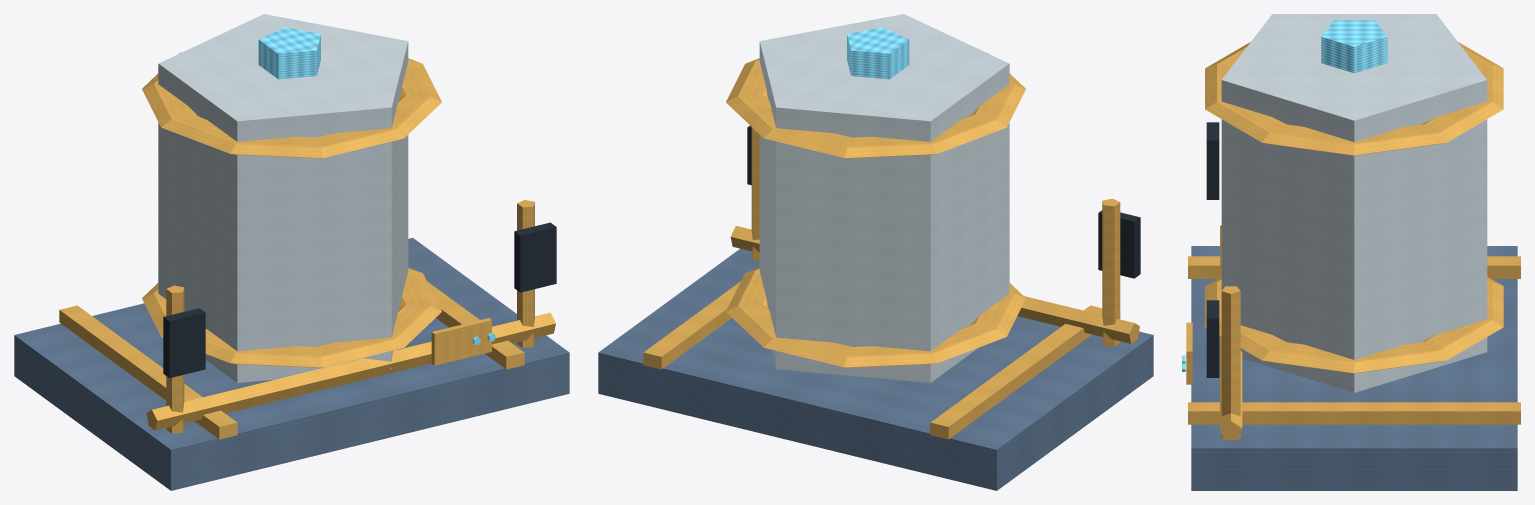
File: atlas100-s057-a02.lod1.glb
3 renders of one model, left to right at view 1: azimuth 30°, elevation 25°; view 2: azimuth 150°, elevation 25°; view 3: azimuth 270°, elevation 25°, orthographic. The views are drawn at different scales.
Parts seen in each view (by area): view 1: atlas100-s057-a02:part-003, atlas100-s057-a02:part-000, atlas100-s057-a02:part-005, atlas100-s057-a02:part-012, atlas100-s057-a02:part-004, atlas100-s057-a02:part-001, atlas100-s057-a02:part-006, atlas100-s057-a02:part-009, atlas100-s057-a02:part-011, atlas100-s057-a02:part-013, atlas100-s057-a02:part-002, atlas100-s057-a02:part-008 (+1 smaller); view 2: atlas100-s057-a02:part-003, atlas100-s057-a02:part-000, atlas100-s057-a02:part-005, atlas100-s057-a02:part-004, atlas100-s057-a02:part-001, atlas100-s057-a02:part-012, atlas100-s057-a02:part-006, atlas100-s057-a02:part-002, atlas100-s057-a02:part-008, atlas100-s057-a02:part-009, atlas100-s057-a02:part-010; view 3: atlas100-s057-a02:part-003, atlas100-s057-a02:part-000, atlas100-s057-a02:part-005, atlas100-s057-a02:part-002, atlas100-s057-a02:part-004, atlas100-s057-a02:part-006, atlas100-s057-a02:part-010, atlas100-s057-a02:part-001, atlas100-s057-a02:part-009, atlas100-s057-a02:part-011, atlas100-s057-a02:part-012, atlas100-s057-a02:part-013.
Part boxes in pixels (left/top/right/bottom): atlas100-s057-a02:part-003: left=158, top=14, right=408, bottom=382; atlas100-s057-a02:part-000: left=14, top=238, right=569, bottom=490; atlas100-s057-a02:part-005: left=142, top=52, right=441, bottom=158; atlas100-s057-a02:part-012: left=146, top=312, right=555, bottom=430; atlas100-s057-a02:part-004: left=142, top=267, right=441, bottom=367; atlas100-s057-a02:part-001: left=59, top=305, right=237, bottom=439; atlas100-s057-a02:part-006: left=258, top=27, right=320, bottom=79; atlas100-s057-a02:part-009: left=163, top=308, right=205, bottom=378; atlas100-s057-a02:part-011: left=514, top=222, right=556, bottom=292; atlas100-s057-a02:part-013: left=431, top=318, right=491, bottom=365; atlas100-s057-a02:part-002: left=427, top=281, right=524, bottom=369; atlas100-s057-a02:part-008: left=166, top=285, right=184, bottom=433; atlas100-s057-a02:part-003: left=759, top=14, right=1009, bottom=382; atlas100-s057-a02:part-000: left=598, top=248, right=1153, bottom=490; atlas100-s057-a02:part-005: left=726, top=52, right=1025, bottom=158; atlas100-s057-a02:part-004: left=726, top=267, right=1025, bottom=367; atlas100-s057-a02:part-001: left=930, top=305, right=1102, bottom=439; atlas100-s057-a02:part-012: left=730, top=226, right=1139, bottom=343; atlas100-s057-a02:part-006: left=847, top=27, right=909, bottom=79; atlas100-s057-a02:part-002: left=643, top=281, right=740, bottom=369; atlas100-s057-a02:part-008: left=1102, top=198, right=1120, bottom=346; atlas100-s057-a02:part-009: left=1098, top=210, right=1140, bottom=278; atlas100-s057-a02:part-010: left=751, top=127, right=759, bottom=260; atlas100-s057-a02:part-003: left=1221, top=14, right=1487, bottom=392; atlas100-s057-a02:part-000: left=1191, top=246, right=1517, bottom=490; atlas100-s057-a02:part-005: left=1205, top=42, right=1503, bottom=155; atlas100-s057-a02:part-002: left=1188, top=402, right=1520, bottom=424; atlas100-s057-a02:part-004: left=1205, top=276, right=1503, bottom=373; atlas100-s057-a02:part-006: left=1321, top=20, right=1387, bottom=73; atlas100-s057-a02:part-010: left=1221, top=286, right=1240, bottom=437; atlas100-s057-a02:part-001: left=1188, top=256, right=1520, bottom=278; atlas100-s057-a02:part-009: left=1206, top=122, right=1219, bottom=199; atlas100-s057-a02:part-011: left=1206, top=300, right=1219, bottom=377; atlas100-s057-a02:part-012: left=1220, top=225, right=1242, bottom=440; atlas100-s057-a02:part-013: left=1186, top=322, right=1192, bottom=384.
Size of the model in its own units: 2.64 by 2.18 by 1.87.
5 materials, 5 textured.
